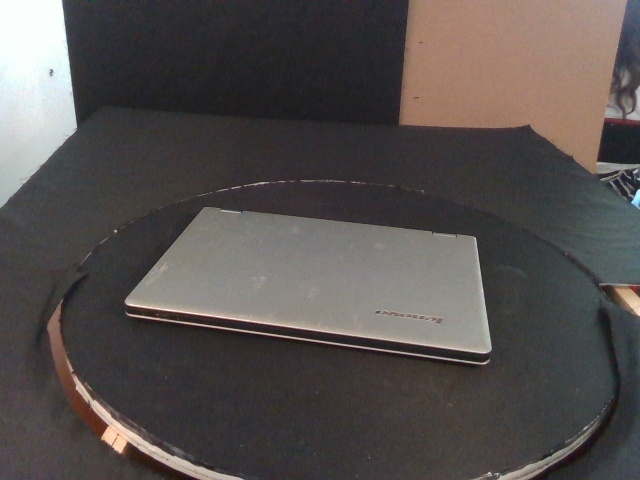laptop: (124, 205, 493, 368)
